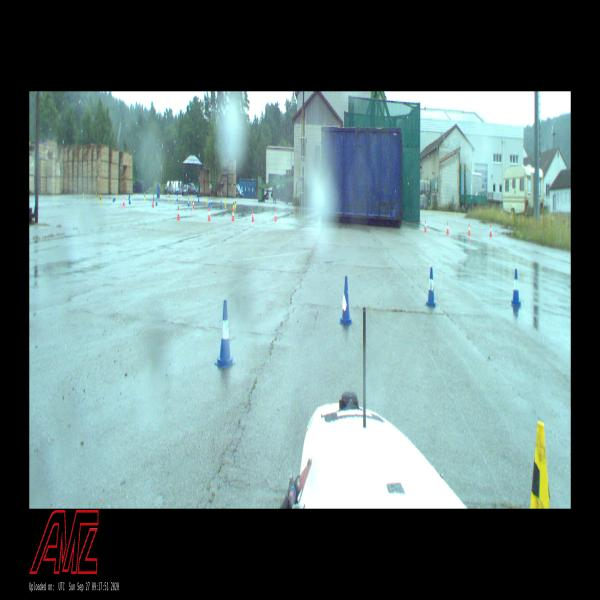blue_cone: (215, 300, 235, 368), (339, 276, 352, 325), (425, 267, 437, 308), (511, 269, 521, 306), (210, 197, 213, 205), (220, 200, 222, 210), (129, 194, 131, 204), (113, 194, 115, 203), (208, 198, 210, 206), (176, 194, 178, 202), (156, 197, 157, 206), (188, 198, 189, 206)
orange_cone: (176, 205, 180, 220), (489, 224, 493, 237), (231, 209, 235, 221), (467, 223, 471, 235), (446, 222, 449, 234), (252, 210, 255, 222), (274, 210, 277, 221), (208, 209, 211, 220), (424, 220, 427, 231), (192, 200, 195, 209), (123, 196, 125, 206), (152, 198, 154, 208)
yellow_cone: (530, 419, 551, 508), (232, 199, 235, 210), (224, 196, 227, 206), (95, 193, 98, 200), (235, 198, 237, 208), (168, 194, 170, 200), (100, 194, 101, 204), (191, 195, 192, 203), (144, 193, 145, 200)
